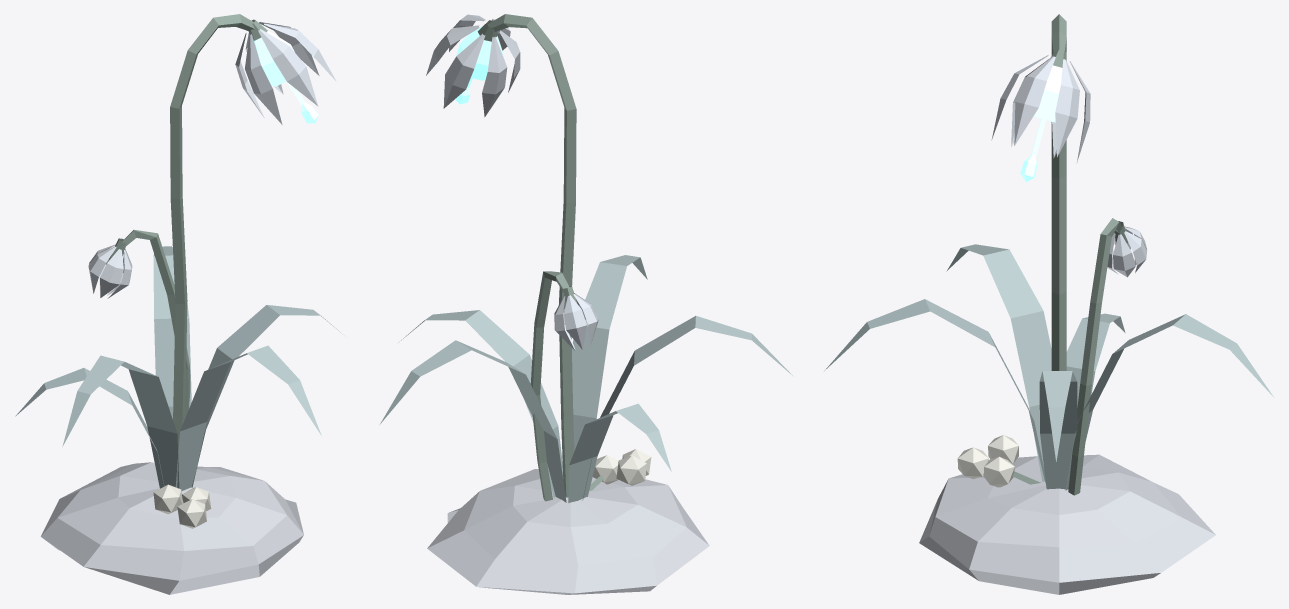
Rendered from plant_t2.fbx.
3 views of the same model, side by side, from view 1: azimuth 30°, elevation 25°; view 2: azimuth 150°, elevation 25°; view 3: azimuth 270°, elevation 25° (orthographic). The views are drawn at different scales.
Parts seen in each view (by area): view 1: plant_t2; view 2: plant_t2; view 3: plant_t2.
Boxes of the visible parts, left/top/right/bottom form: plant_t2: left=15, top=14, right=340, bottom=594; plant_t2: left=379, top=14, right=793, bottom=594; plant_t2: left=824, top=14, right=1273, bottom=594.
Size of the model in its own units: 31.09 by 44.9 by 33.59.
